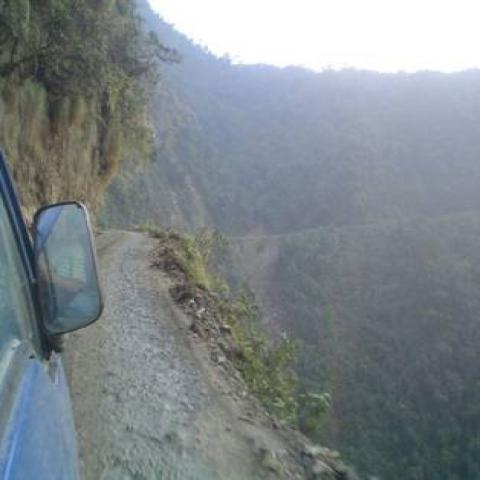truck: (0, 144, 108, 475)
